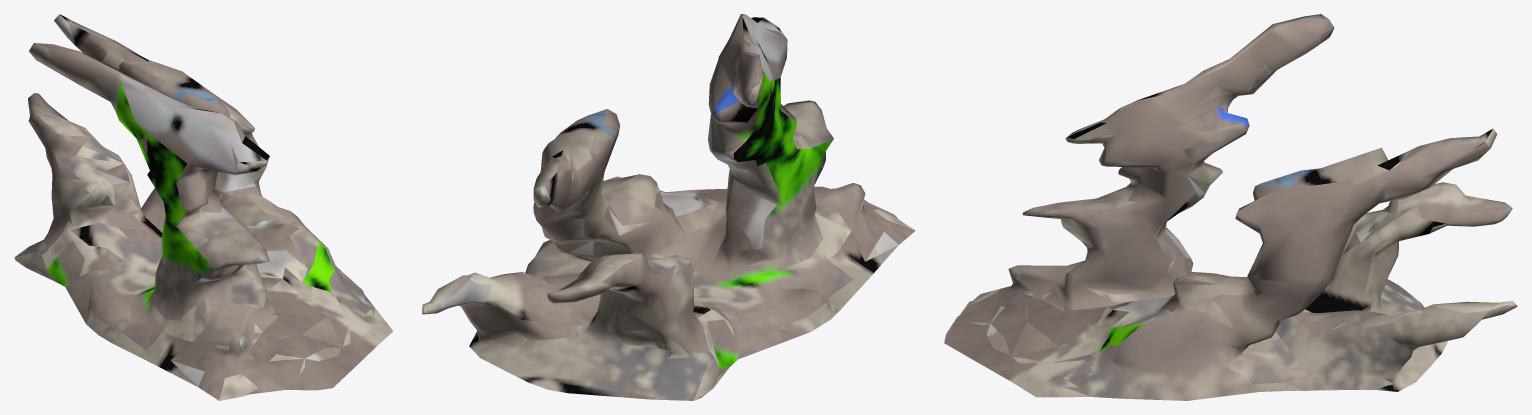
The model's file is Spiky-1.fbx.
3 renders of one model, left to right at view 1: azimuth 30°, elevation 25°; view 2: azimuth 150°, elevation 25°; view 3: azimuth 270°, elevation 25°, orthographic. The views are drawn at different scales.
Visible parts, largest first — view 1: Spiky-1; view 2: Spiky-1; view 3: Spiky-1.
Boxes of the visible parts, left/top/right/bottom form: Spiky-1: left=14, top=14, right=393, bottom=400; Spiky-1: left=422, top=14, right=915, bottom=400; Spiky-1: left=944, top=14, right=1517, bottom=400.
Bounding box in the file's own units: 5.09 × 4.97 × 9.6.
